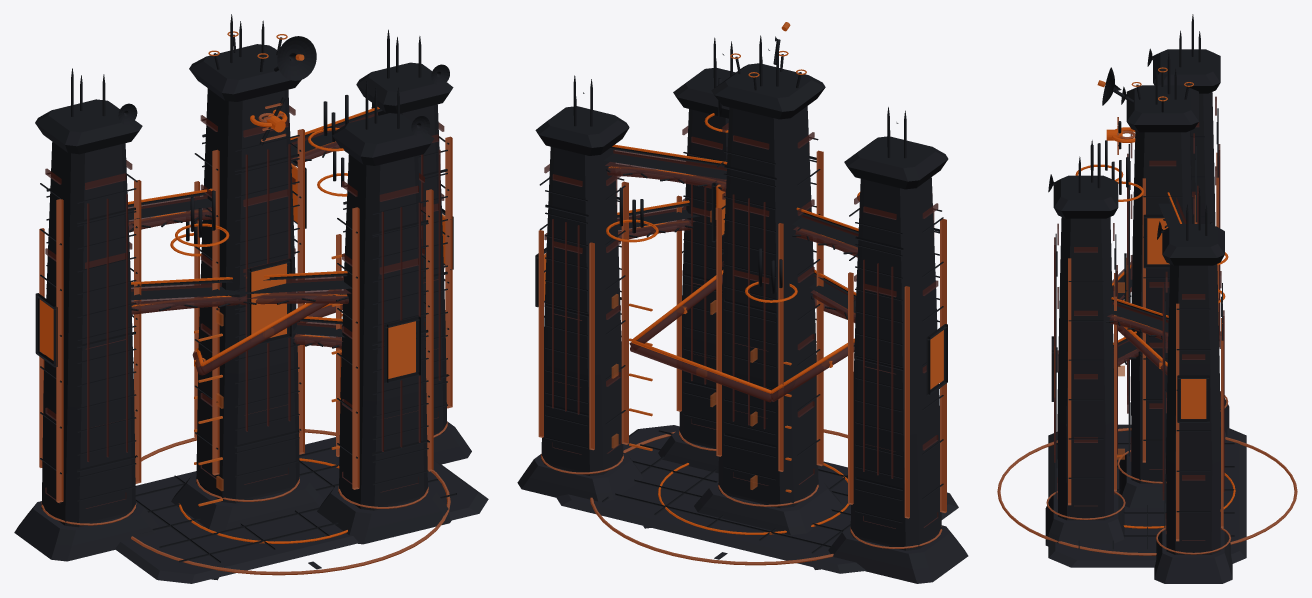
Rendered from chat-ext-v2-draft-s74.glb.
The picture shows the model from 3 angles, left to right: view 1: azimuth 30°, elevation 25°; view 2: azimuth 150°, elevation 25°; view 3: azimuth 270°, elevation 25°; orthographic projection. The views are drawn at different scales.
Parts seen in each view (by area): view 1: chat_s74_base_combined_mesh, chat_s74_detail_combined_mesh, chat_s74_accent_combined_mesh, chat_s74_glass_combined_mesh, chat_s74_emissive_combined_mesh, chat_s74_energy_combined_mesh; view 2: chat_s74_base_combined_mesh, chat_s74_detail_combined_mesh, chat_s74_accent_combined_mesh, chat_s74_glass_combined_mesh, chat_s74_energy_combined_mesh, chat_s74_emissive_combined_mesh, chat_s74_holo_polish_mesh; view 3: chat_s74_base_combined_mesh, chat_s74_detail_combined_mesh, chat_s74_accent_combined_mesh, chat_s74_glass_combined_mesh, chat_s74_emissive_combined_mesh, chat_s74_energy_combined_mesh.
Part boxes in pixels (<box>): chat_s74_base_combined_mesh: <box>14,88,488,583</box>; chat_s74_detail_combined_mesh: <box>35,14,456,562</box>; chat_s74_accent_combined_mesh: <box>39,103,452,575</box>; chat_s74_glass_combined_mesh: <box>45,105,444,508</box>; chat_s74_emissive_combined_mesh: <box>40,31,445,506</box>; chat_s74_energy_combined_mesh: <box>128,107,379,543</box>; chat_s74_base_combined_mesh: <box>517,106,968,583</box>; chat_s74_detail_combined_mesh: <box>535,35,948,553</box>; chat_s74_accent_combined_mesh: <box>538,150,946,565</box>; chat_s74_glass_combined_mesh: <box>544,123,938,528</box>; chat_s74_energy_combined_mesh: <box>606,113,860,534</box>; chat_s74_emissive_combined_mesh: <box>544,22,943,492</box>; chat_s74_holo_polish_mesh: <box>611,208,757,489</box>; chat_s74_base_combined_mesh: <box>1045,92,1246,583</box>; chat_s74_detail_combined_mesh: <box>1048,14,1234,549</box>; chat_s74_accent_combined_mesh: <box>997,117,1297,555</box>; chat_s74_glass_combined_mesh: <box>1054,96,1224,540</box>; chat_s74_emissive_combined_mesh: <box>1054,67,1206,418</box>; chat_s74_energy_combined_mesh: <box>1075,127,1235,528</box>.
Size of the model in its own units: 12.61 by 14.54 by 8.79.
